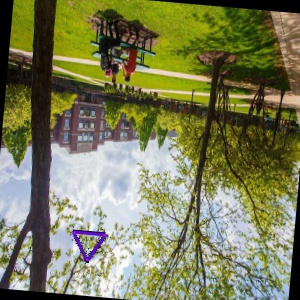triangle: (68, 225, 108, 265)
